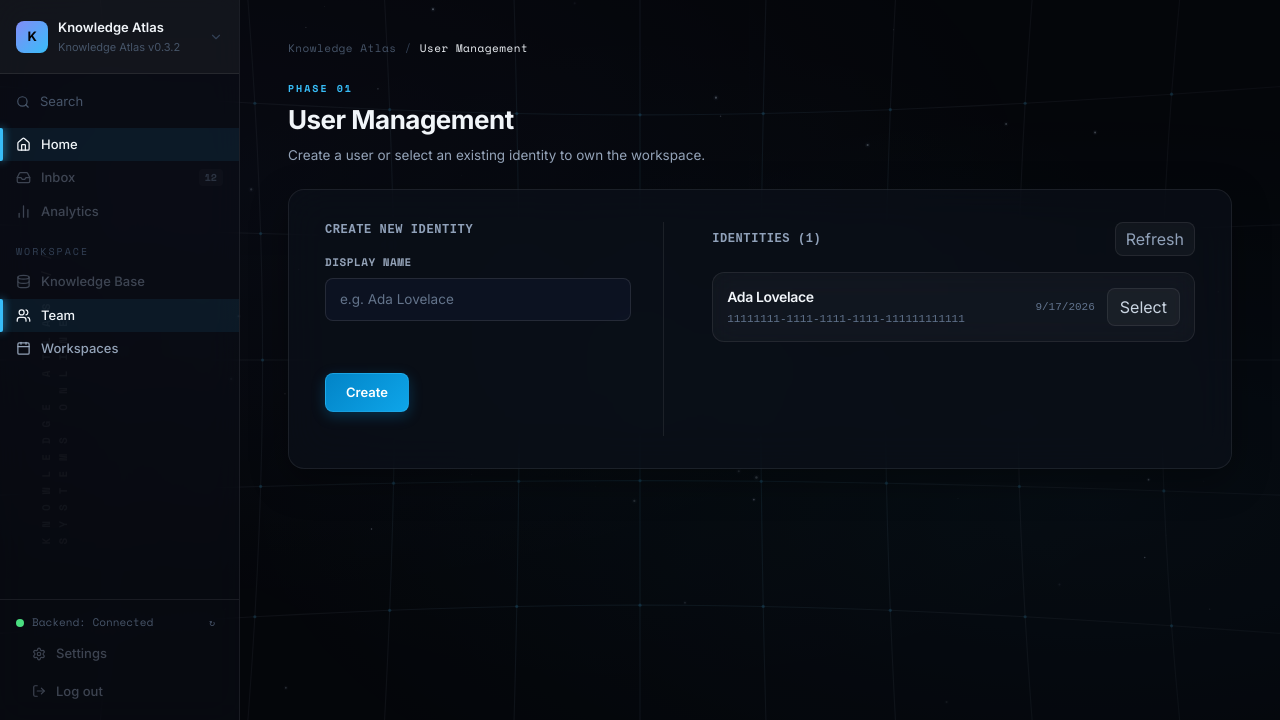
Test case: HomePage Health State UI (§16, §25, §27) › smoothly navigates to Knowledge Base (Phase 03) when selecting a workspace and returns back
What coordinates should you click on to do the following:
click the button "Select"
I would click on:
 (1143, 307)
Its box is x1=1107 y1=288 x2=1180 y2=326.
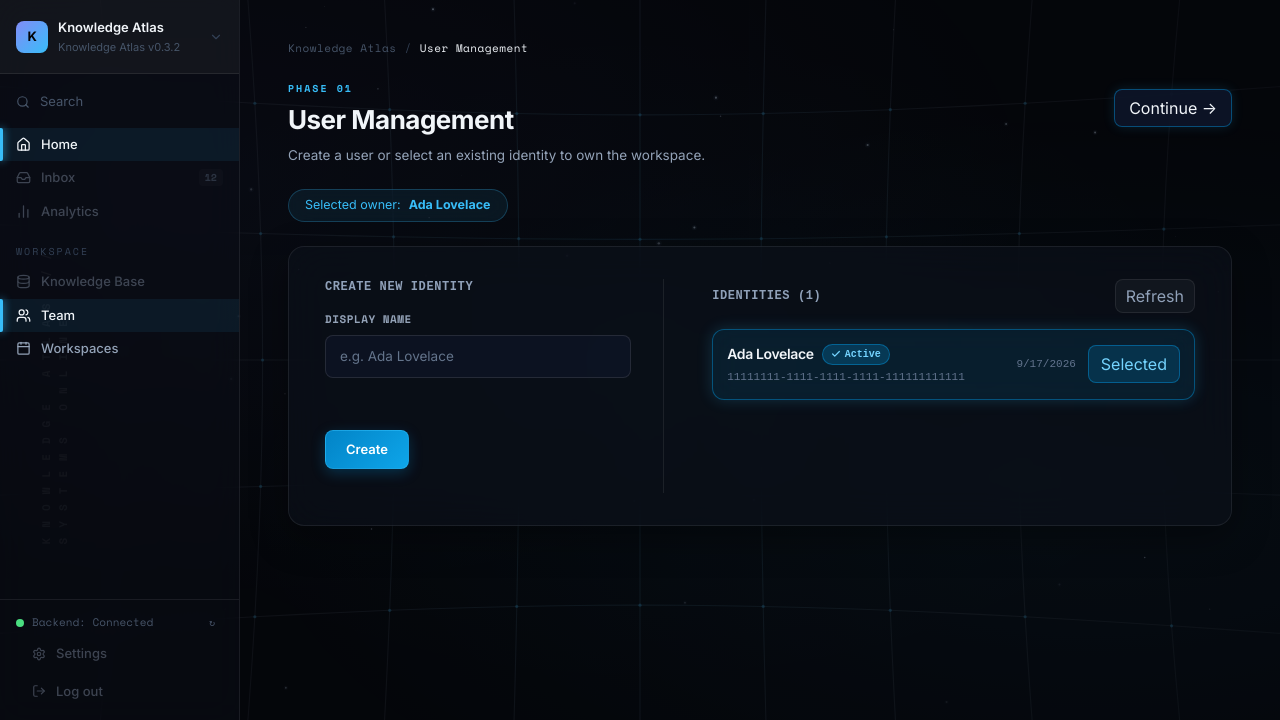
What coordinates should you click on to do the following:
click the button with test id "continue-to-workspaces"
I would click on:
 (1173, 108)
Its box is x1=1114 y1=88 x2=1232 y2=126.
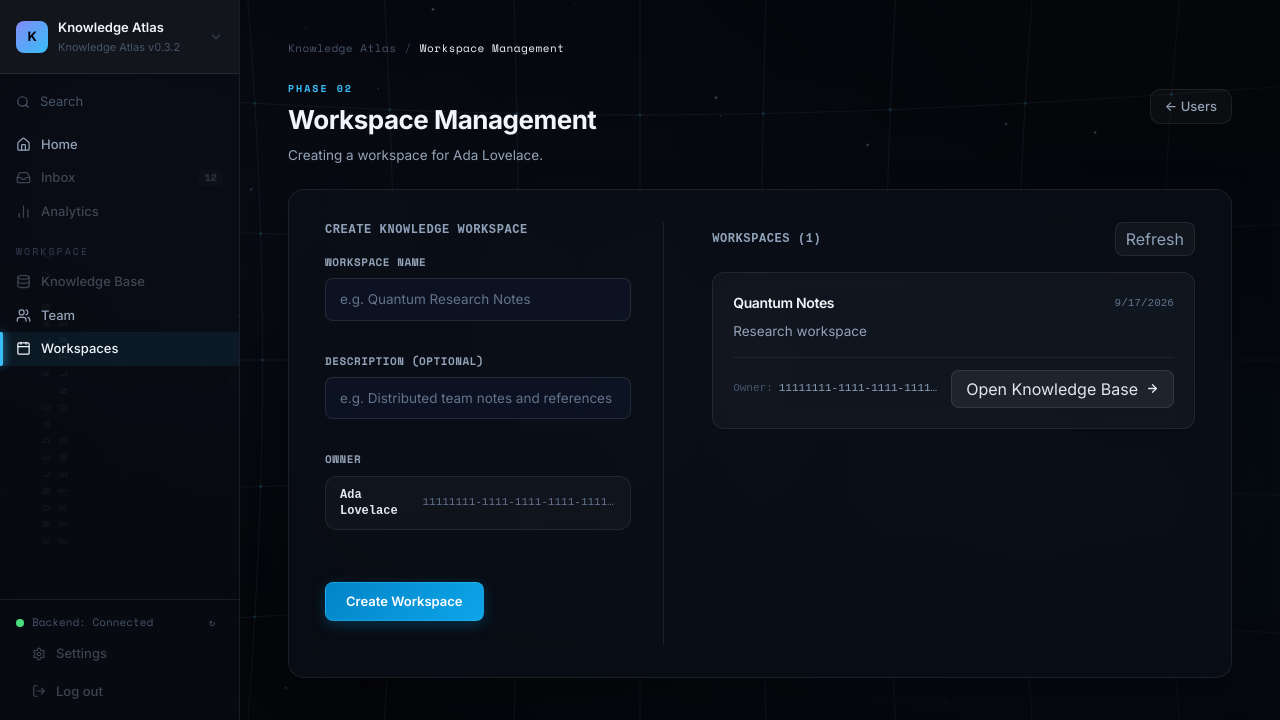
expect the heading "Workspace Management" is shown: met, box x1=288 y1=100 x2=596 y2=138
What coordinates should you click on to do the following:
click the button "Open Knowledge Base"
I would click on:
 (1063, 389)
Its box is x1=951 y1=370 x2=1174 y2=408.
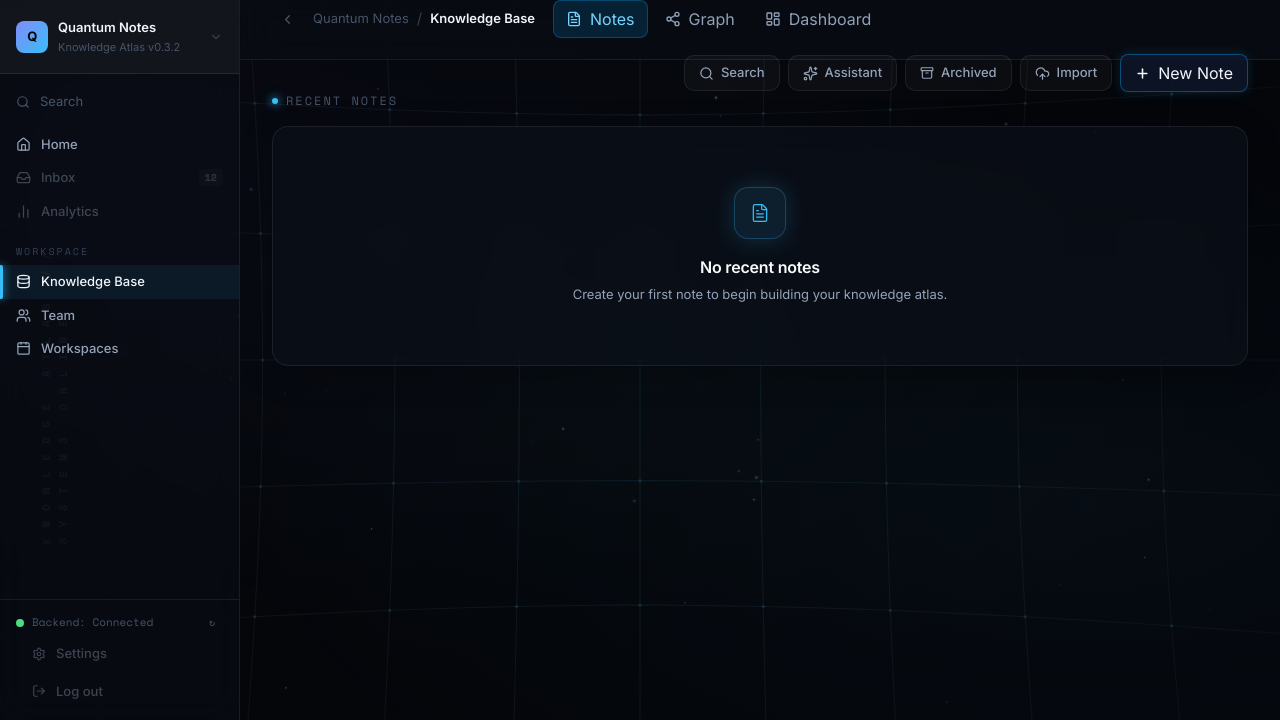
expect the text with test id "active-workspace-badge" is shown: met, box x1=313 y1=9 x2=409 y2=29
Note: Click back to workspaces
What coordinates should you click on to do the following:
click the button with test id "back-to-workspaces"
I would click on:
 (288, 19)
Its box is x1=272 y1=8 x2=303 y2=30.
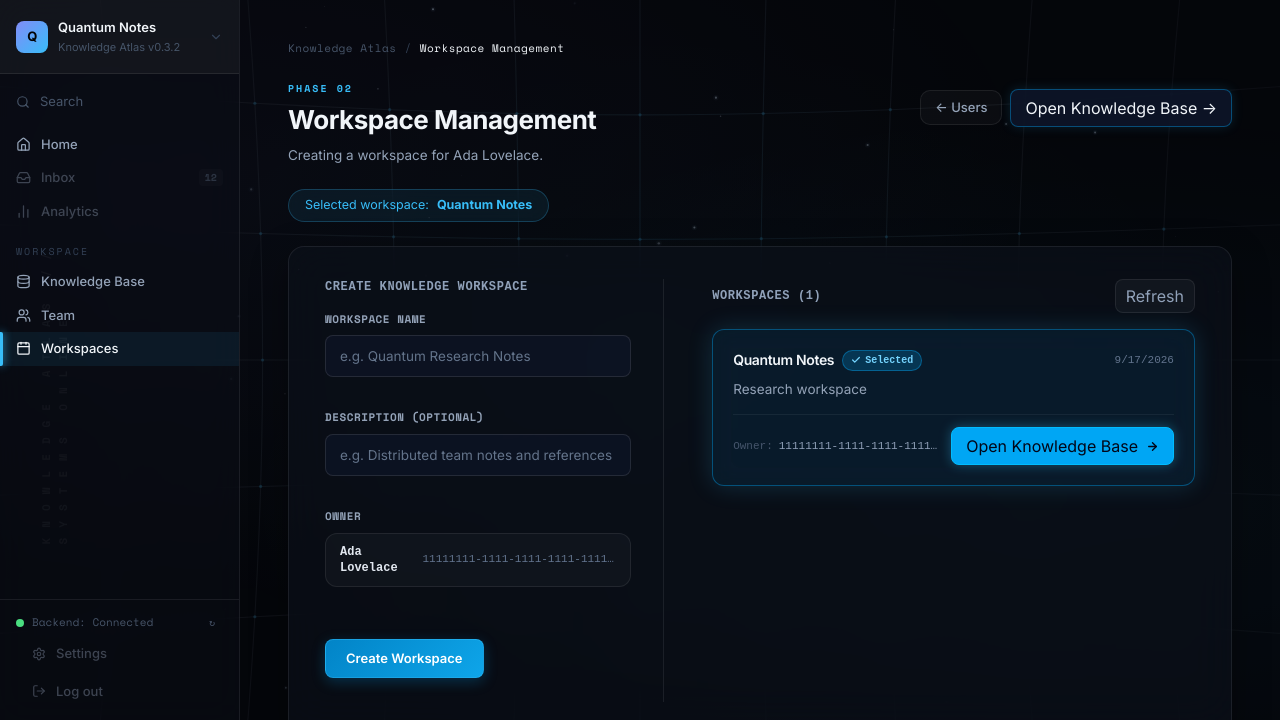
expect the heading "Workspace Management" is shown: met, box x1=288 y1=100 x2=596 y2=138
expect the message reads "Selected workspace: Quantum Notes": met, box x1=288 y1=189 x2=549 y2=222
